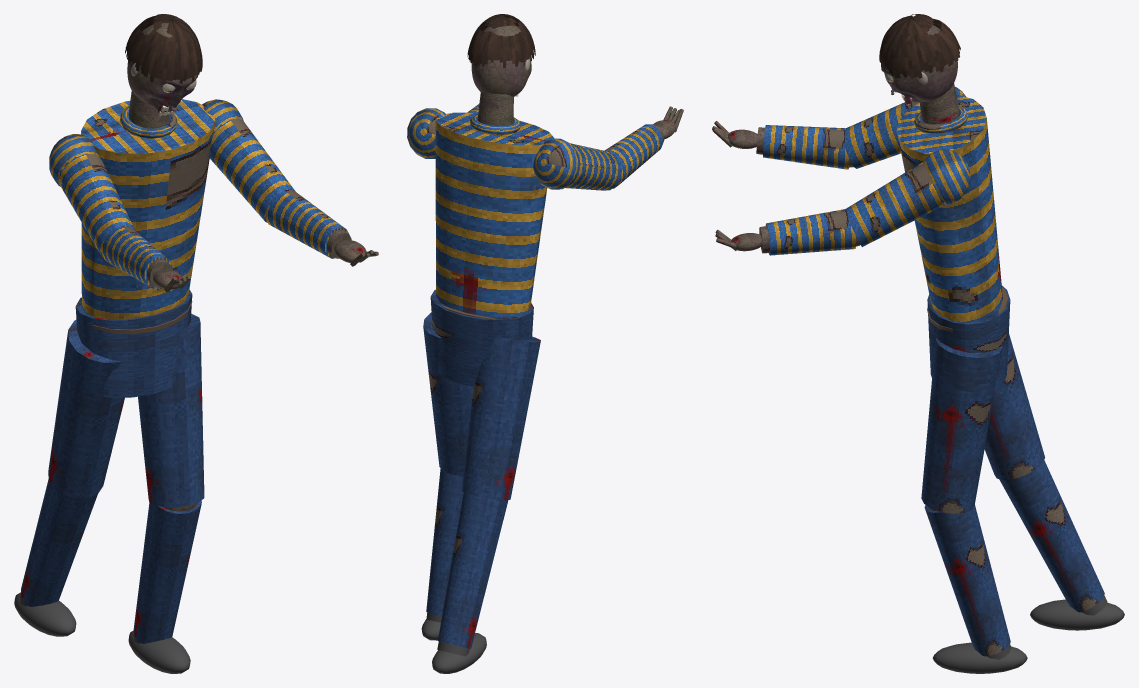
Rendered from Zombie_062.glb.
The picture shows the model from 3 angles, left to right: view 1: azimuth 30°, elevation 25°; view 2: azimuth 150°, elevation 25°; view 3: azimuth 270°, elevation 25°; orthographic projection. The views are drawn at different scales.
Visible parts, largest first — view 1: Zombie_062, object 45, object 12, object 4, object 18; view 2: Zombie_062, object 45, object 18, object 4, object 44; view 3: Zombie_062, object 45, object 12, object 4, object 18.
Part boxes in pixels (x1,y1,x2,y2): Zombie_062: [14, 91, 295, 673]; object 45: [125, 14, 202, 83]; object 12: [265, 189, 348, 258]; object 4: [101, 226, 172, 288]; object 18: [127, 22, 196, 110]; Zombie_062: [407, 92, 622, 673]; object 45: [467, 14, 535, 64]; object 18: [471, 25, 531, 96]; object 4: [604, 124, 662, 188]; object 44: [469, 17, 533, 67]; Zombie_062: [844, 83, 1124, 673]; object 45: [879, 14, 960, 76]; object 12: [765, 209, 855, 255]; object 4: [763, 125, 848, 169]; object 18: [881, 25, 957, 102].
Bounding box in the file's own units: 0.6513 × 2.01 × 1.17.
Materials: 16 (6 with a texture image).
